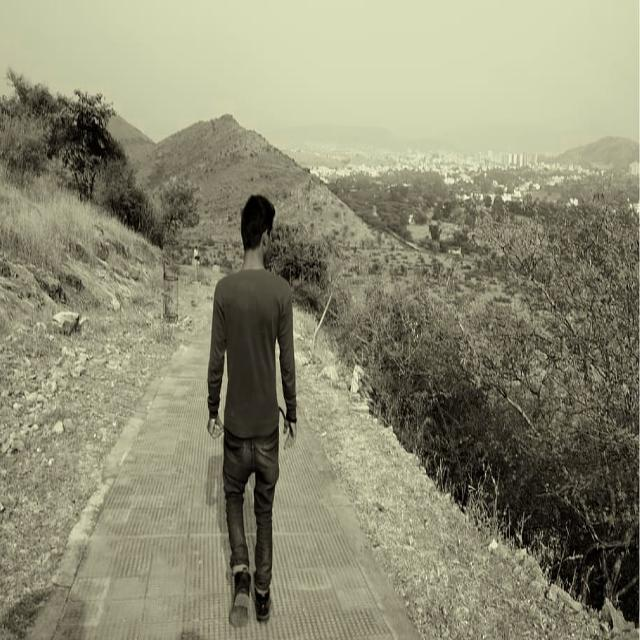adult: (204, 196, 297, 629)
